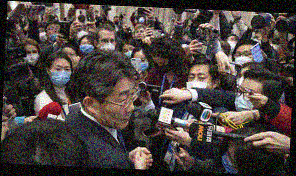mask_weared_incorrect: (47, 23, 61, 40)
with_mask: (233, 85, 259, 114), (185, 70, 213, 96), (221, 142, 241, 173), (49, 63, 72, 88), (22, 47, 41, 67), (233, 49, 254, 67), (133, 55, 150, 74), (153, 60, 173, 75), (97, 36, 116, 51), (224, 35, 237, 53), (79, 39, 95, 53), (121, 45, 136, 59), (38, 28, 50, 43), (235, 72, 246, 88), (76, 27, 90, 39), (252, 34, 263, 46), (137, 16, 146, 24), (113, 17, 120, 25), (171, 14, 176, 20)
without_mask: (95, 81, 137, 130), (61, 49, 77, 65), (135, 28, 146, 40)
